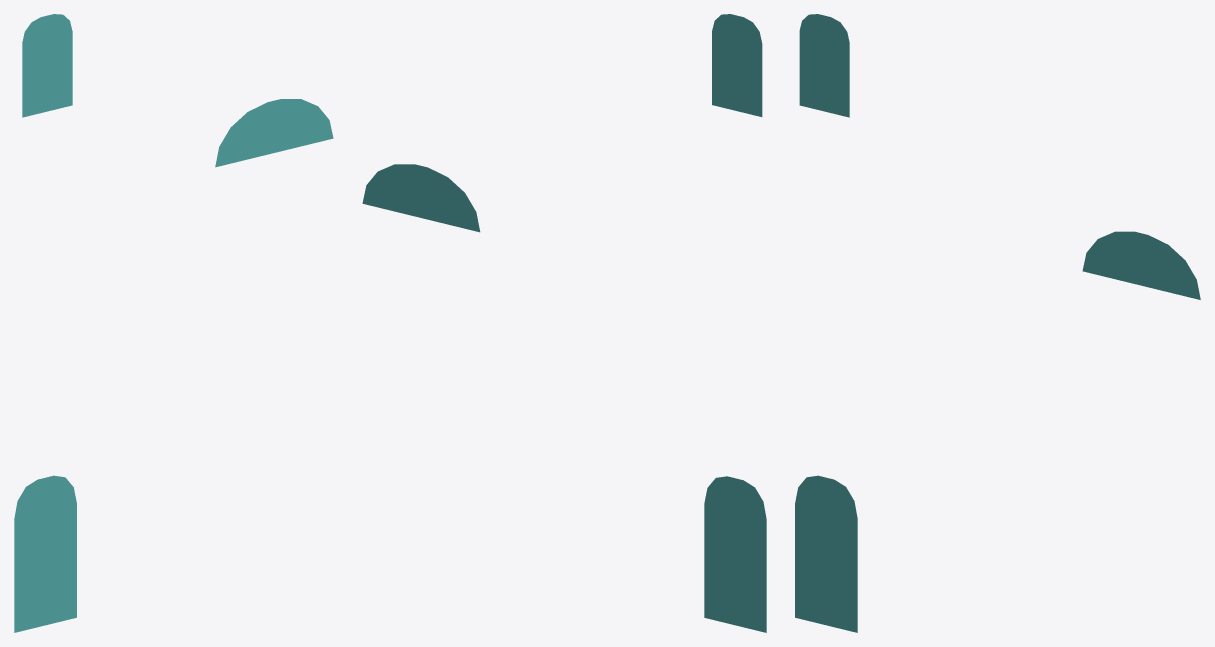
File: Building_3_windows_glas.fbx
3 views of the same model, side by side, from view 1: azimuth 30°, elevation 25°; view 2: azimuth 150°, elevation 25°; view 3: azimuth 330°, elevation 25° (orthographic).
Visible parts, largest first — view 1: Building_3_windows; view 2: Building_3_windows; view 3: Building_3_windows.
Part boxes in pixels (x1,y1,x2,y2): Building_3_windows: (14, 14, 333, 632); Building_3_windows: (362, 14, 766, 632); Building_3_windows: (795, 14, 1200, 632).
Bounding box in the file's own units: 47.17 × 219 × 353.
